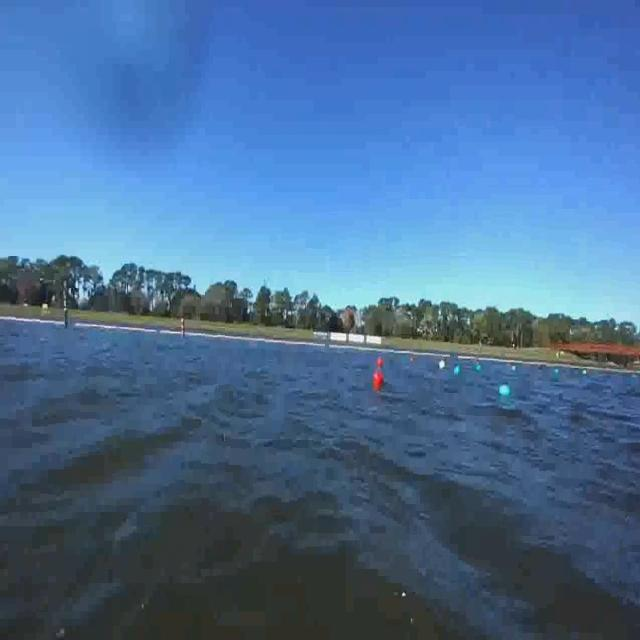green-buoy: (498, 380, 510, 396), (454, 364, 462, 374)
red-buoy: (375, 372, 385, 389), (377, 357, 385, 367)
yellow-buoy: (438, 354, 447, 372)
